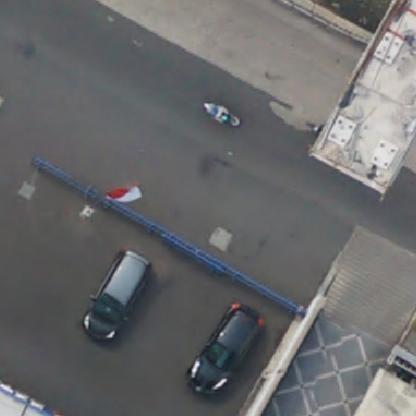Car: (178, 306, 261, 390), (82, 249, 148, 346)
Motorcycle: (206, 96, 242, 132)
